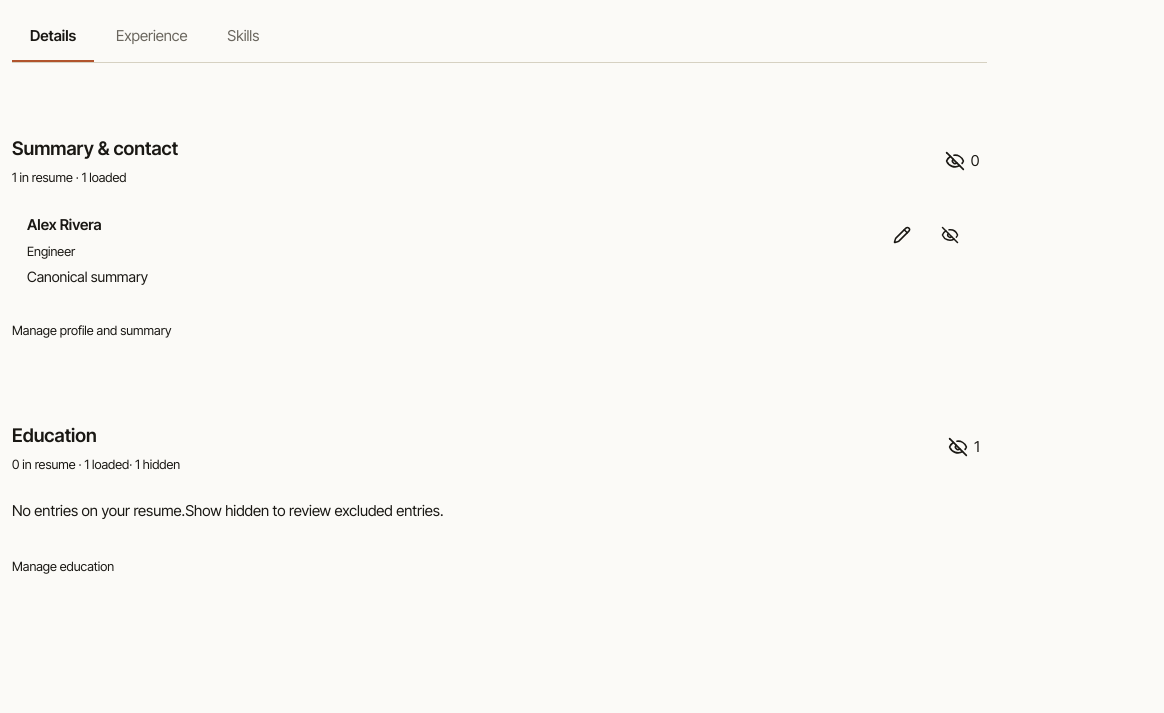
Test: Resume section tabs › reveals experience previews, related bullets and hidden records only on demand
expect the text "Staff Engineer" is not shown: met
Click the tab with id "resume-tab-experience": (152, 37) [98,12,206,62]
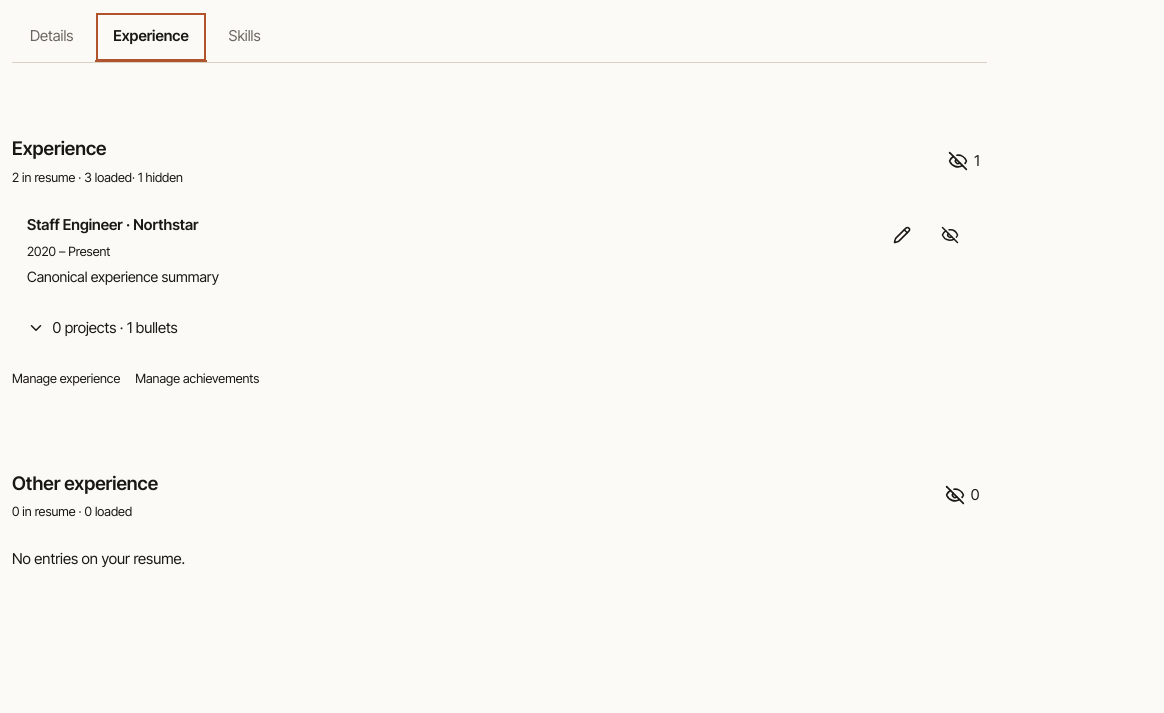
expect the text "Staff Engineer · Northstar" is shown: met, box [27,213,219,237]
expect the text "Canonical experience summary" is shown: met, box [27,266,219,287]
expect the button with id "resume-hidden-other" is shown: met, box [937,473,987,517]
Click the button with id "resume-children-raw-experience": (102, 328) [20,306,185,350]
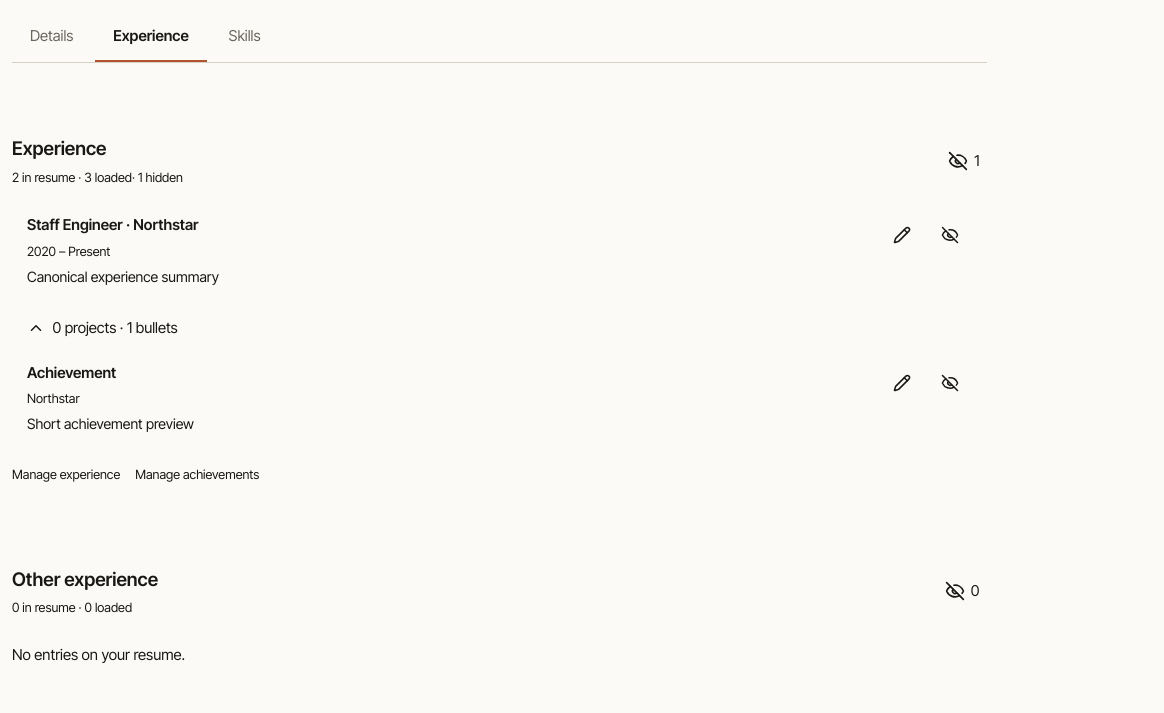
expect the text "Short achievement preview" is shown: met, box [27,413,194,434]
Click the button with id "resume-hidden-experience": (964, 161) [941,139,987,183]
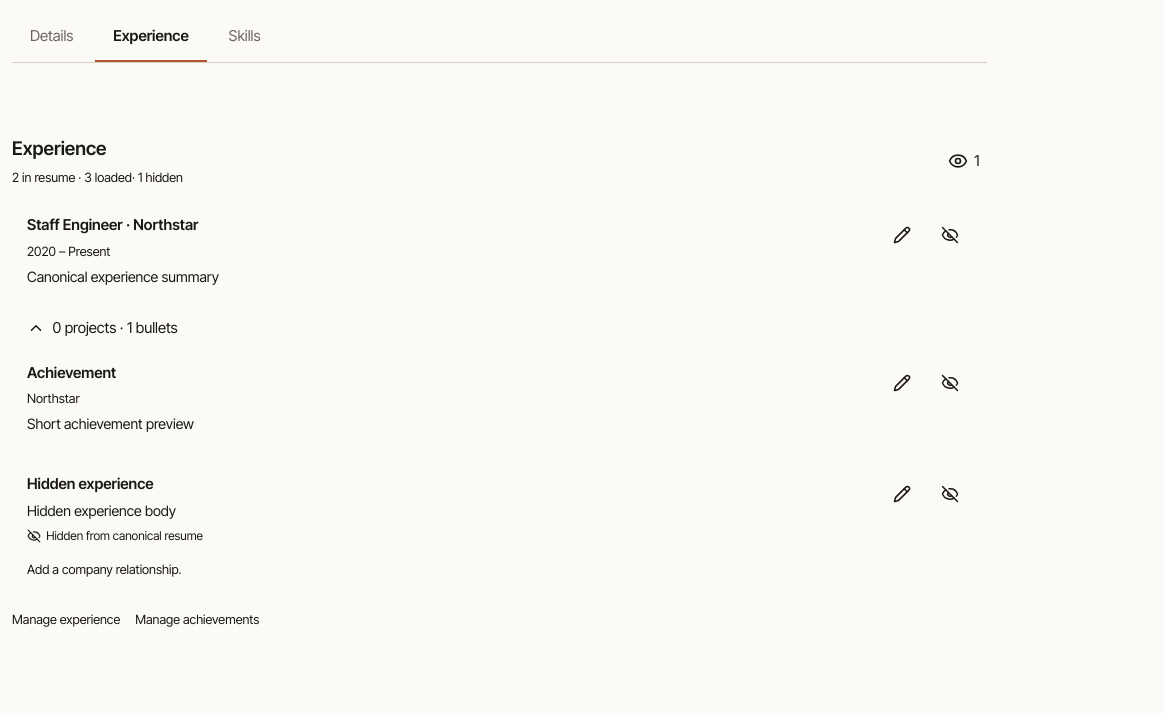
expect the form in the row of "Staff Engineer · Northstar" is shown: met, box [928,213,972,257]
expect the text "Hidden experience body" is shown: met, box [27,502,176,519]
